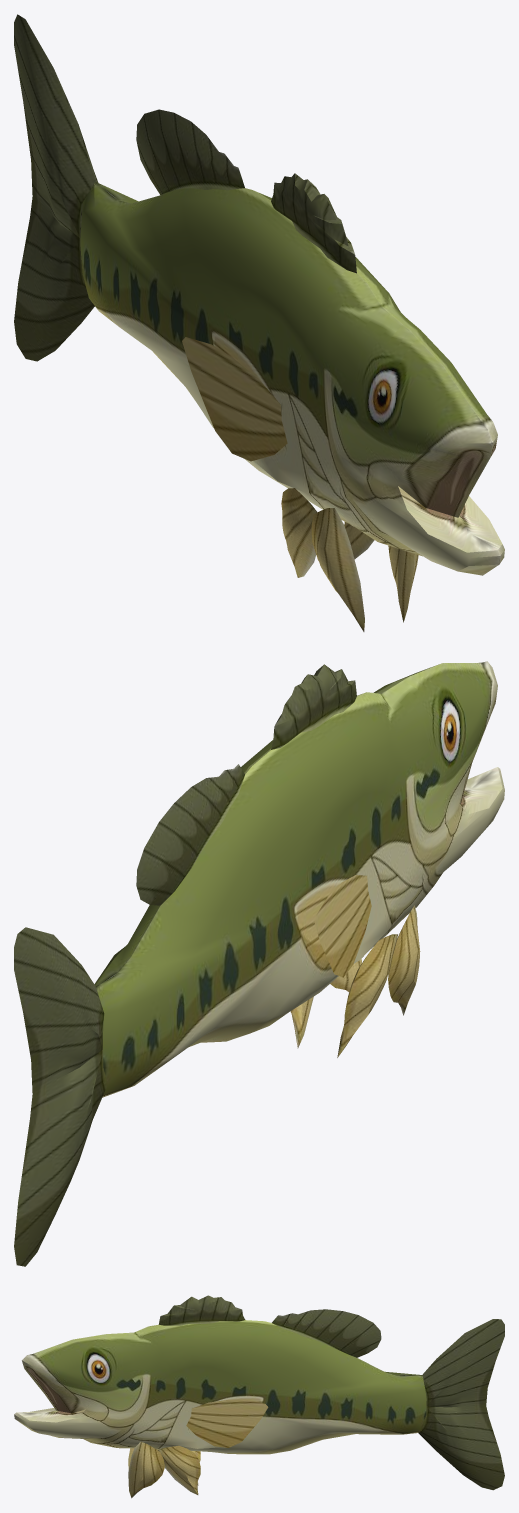
File: fish.fbx
The picture shows the model from 3 angles, top to bottom: view 1: azimuth 30°, elevation 25°; view 2: azimuth 150°, elevation 25°; view 3: azimuth 270°, elevation 25°; orthographic projection. The views are drawn at different scales.
Visible parts, largest first — view 1: fish; view 2: fish; view 3: fish.
Part boxes in pixels (<box>): fish: <box>14,14,504,631</box>; fish: <box>14,661,504,1266</box>; fish: <box>14,1295,504,1498</box>.
Bounding box in the file's own units: 6.07 × 17.18 × 38.53.
